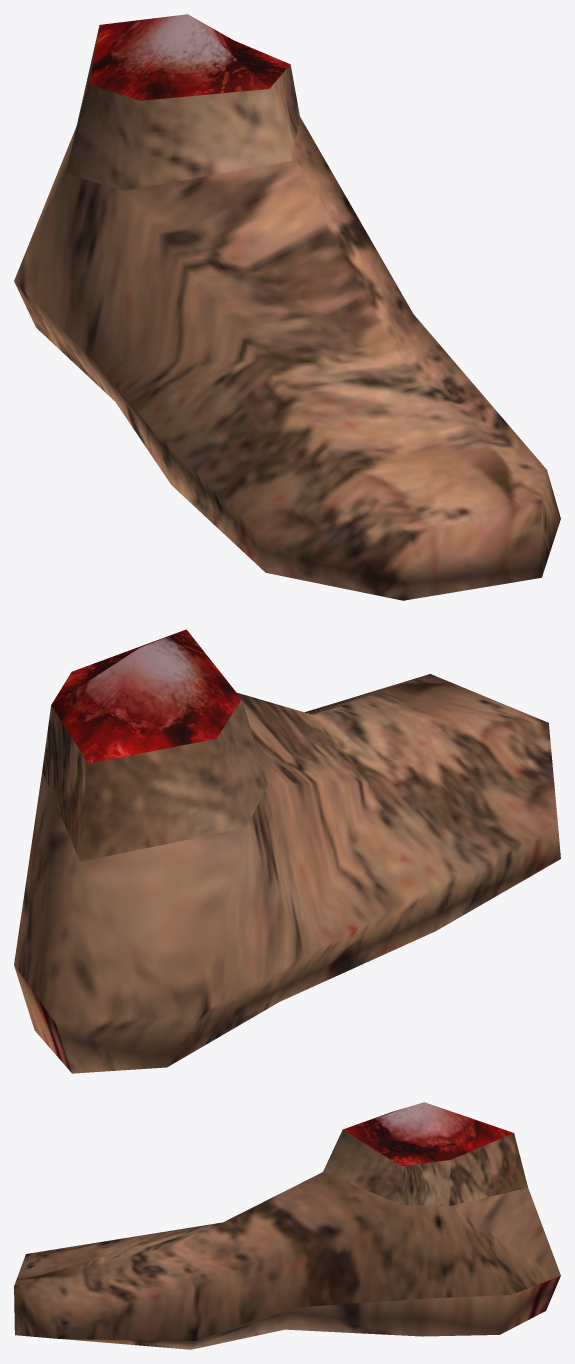
File: rt_foot.fbx
3 renders of one model, top to bottom at view 1: azimuth 30°, elevation 25°; view 2: azimuth 150°, elevation 25°; view 3: azimuth 270°, elevation 25°, orthographic. The views are drawn at different scales.
Parts seen in each view (by area): view 1: rt_foot_gib; view 2: rt_foot_gib; view 3: rt_foot_gib.
Boxes of the visible parts, x1,y1,x2,y2 form: rt_foot_gib: (14,14,560,600); rt_foot_gib: (14,629,560,1073); rt_foot_gib: (14,1102,560,1349).
Size of the model in its own units: 0.1271 by 0.1578 by 0.3431.
